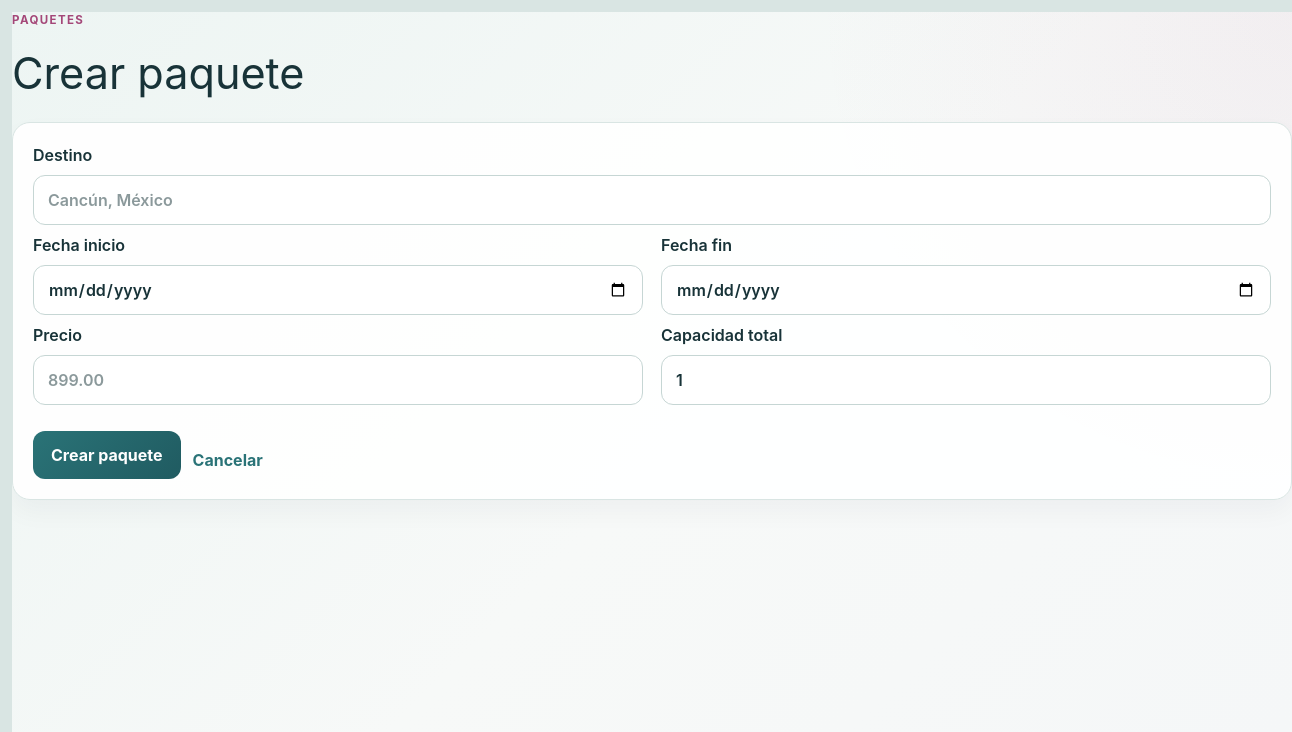
Test: PackageFormPage › shows validation errors when submitting an empty package form
Click the button "Crear paquete" at [107, 455], box [33,431,181,479]
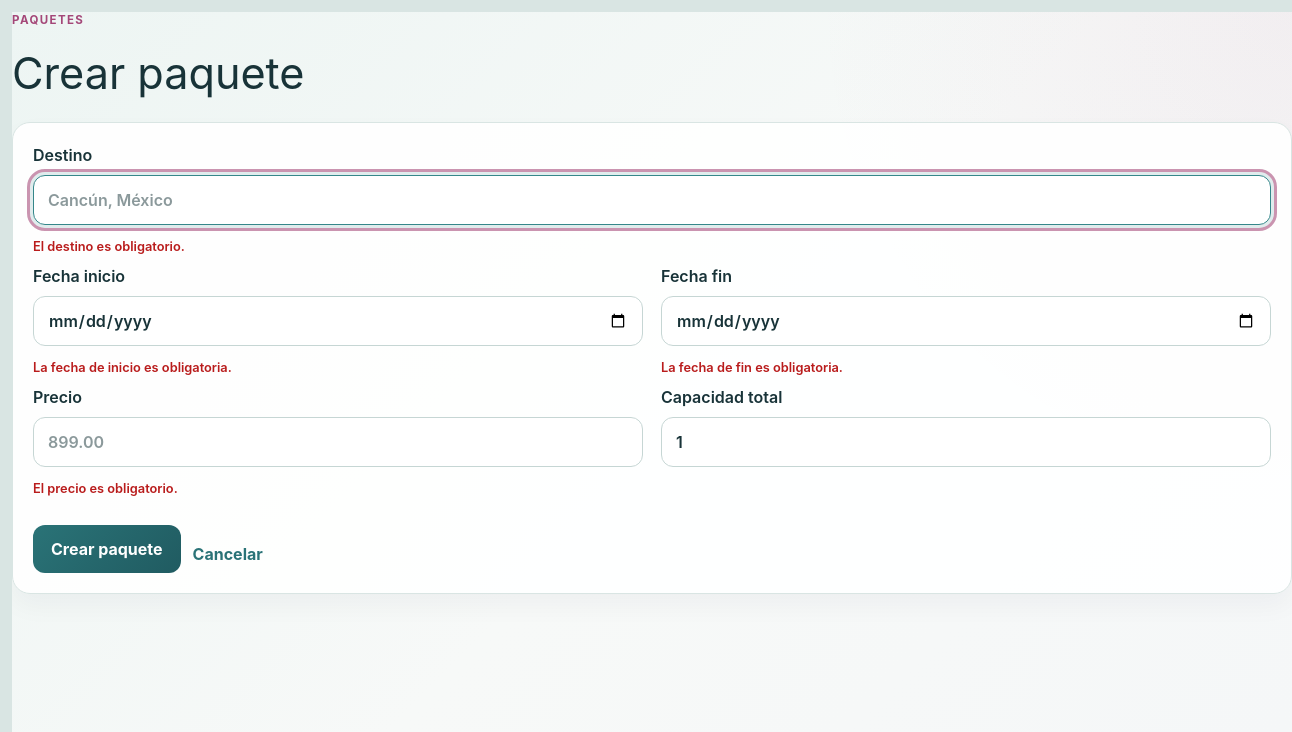
Check: the text "El destino es obligatorio." is shown, box [33,239,185,254]
Check: the text "La fecha de inicio es obligatoria." is shown, box [33,360,232,375]
Check: the text "La fecha de fin es obligatoria." is shown, box [661,360,843,375]
